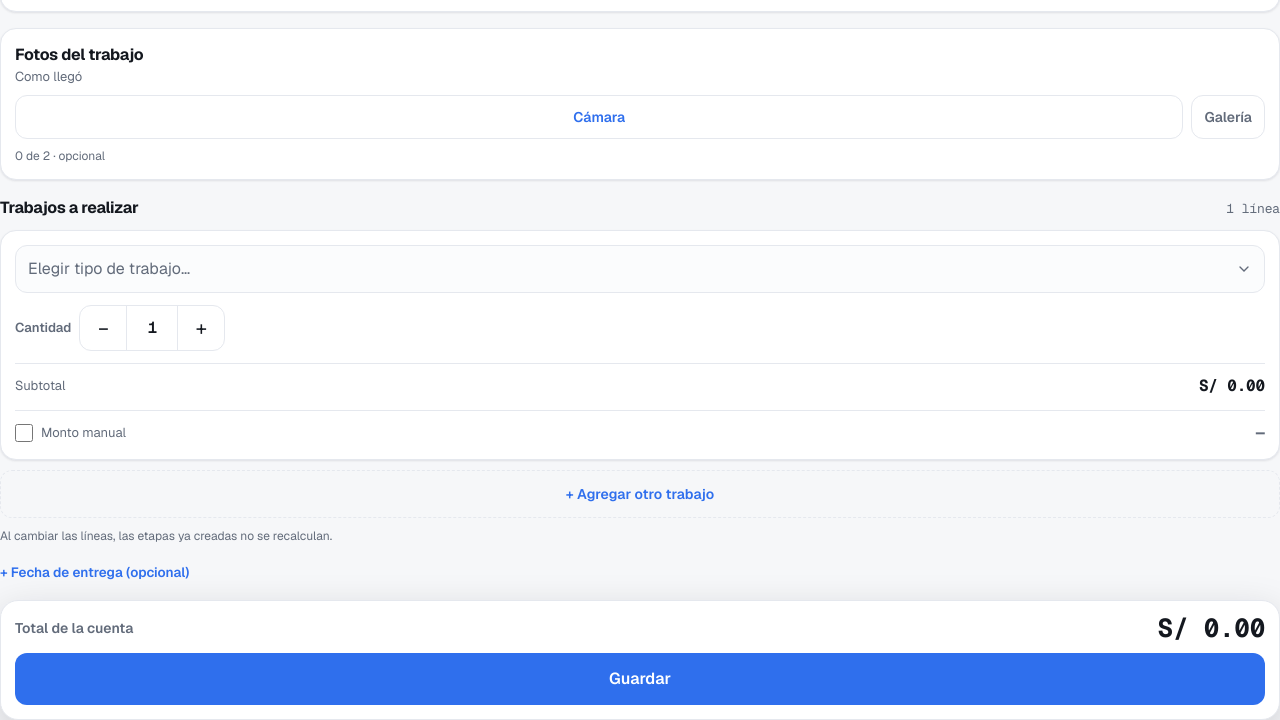
Test: TrabajoForm — fecha de entrega al editar › pero sí se le puede poner una a mano
(page scrolled)
Click the button "+ Fecha de entrega (opcional)": click(95, 572) [0,562,189,582]
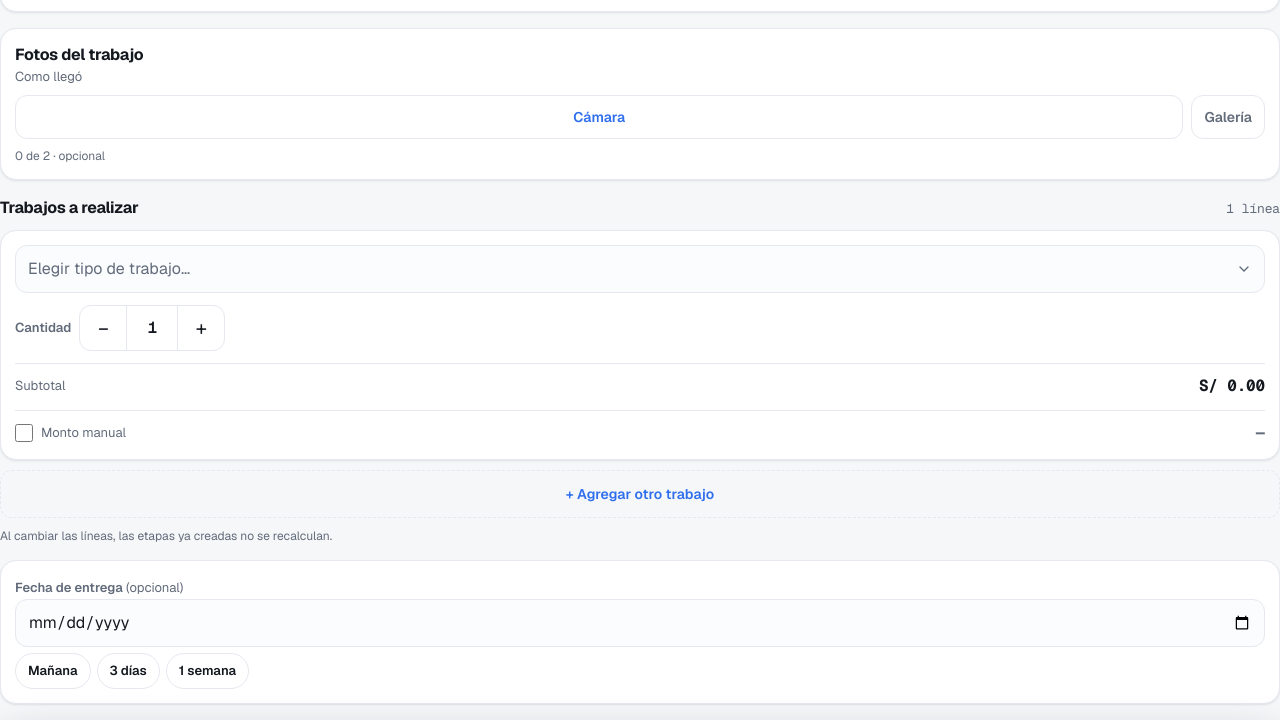
Click the button "3 días": click(128, 670) [96,652,160,688]
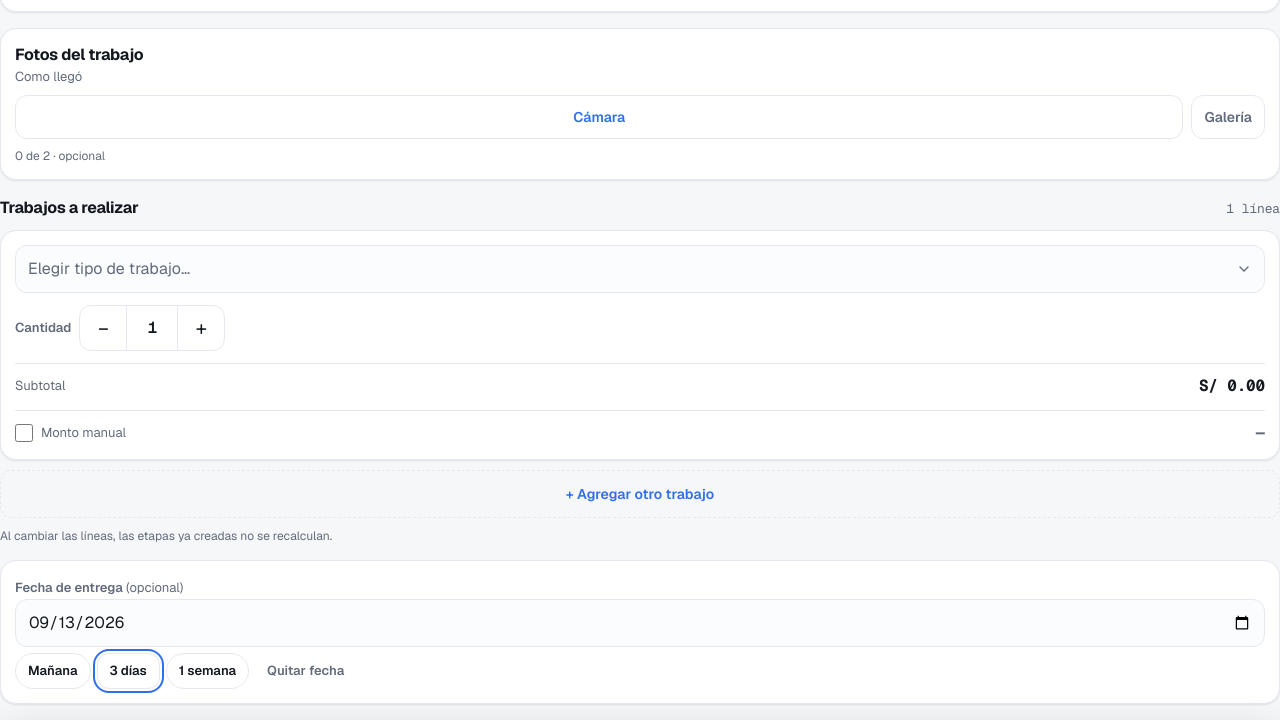
Check: the date field named "fecha_entrega" holds "2026-09-13", box [15,598,1265,646]
